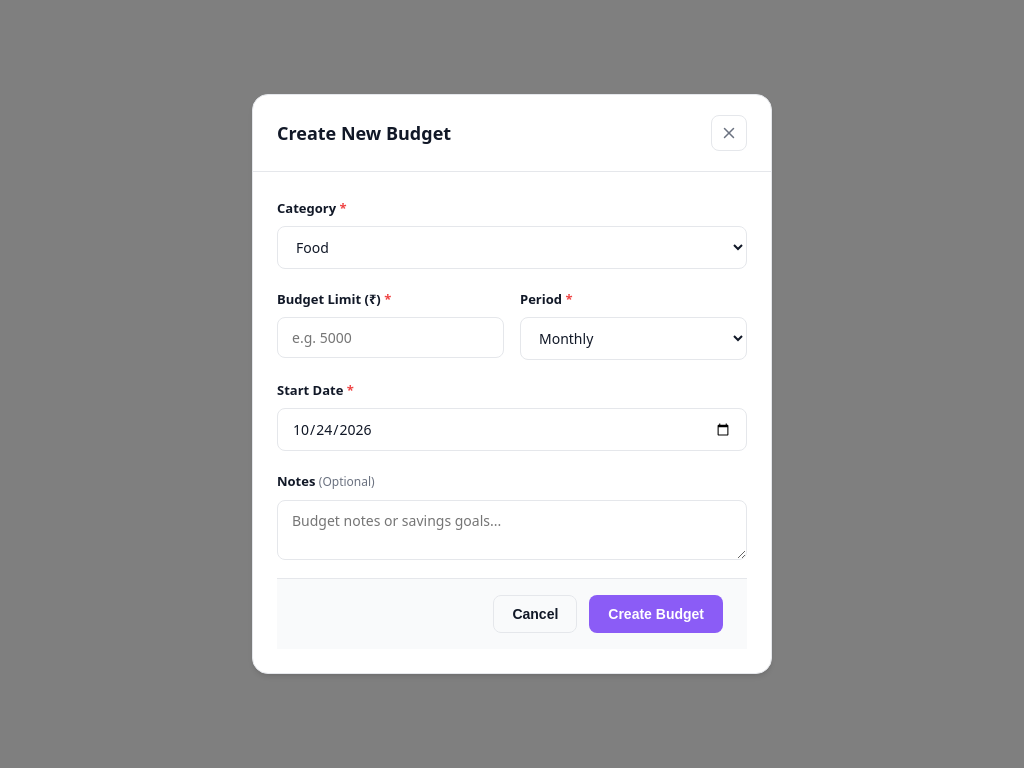
Test: Lumina Finance Frontend Security & QA Suite › 33. Budget Form Behavior › validates budget limit greater than 0
This screenshot has width=1024, height=768.
Click the button "Create Budget" at (656, 614), box [589, 595, 723, 633]
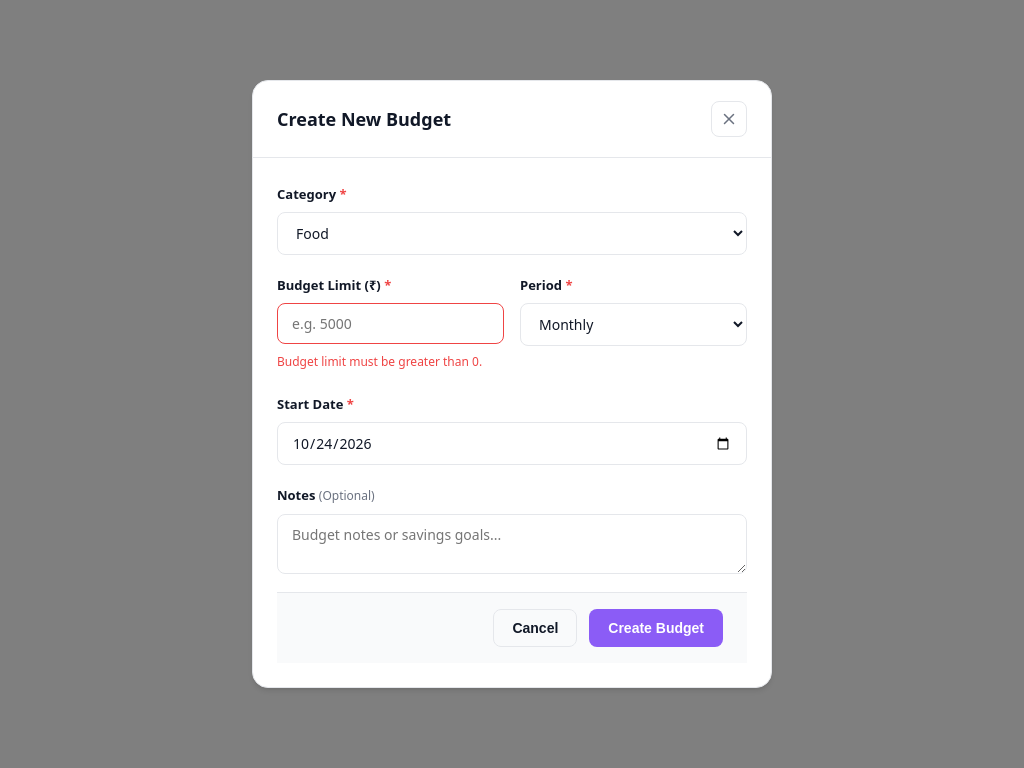
Now the text "Budget limit must be greater than 0." is shown, box [277, 350, 504, 374]
